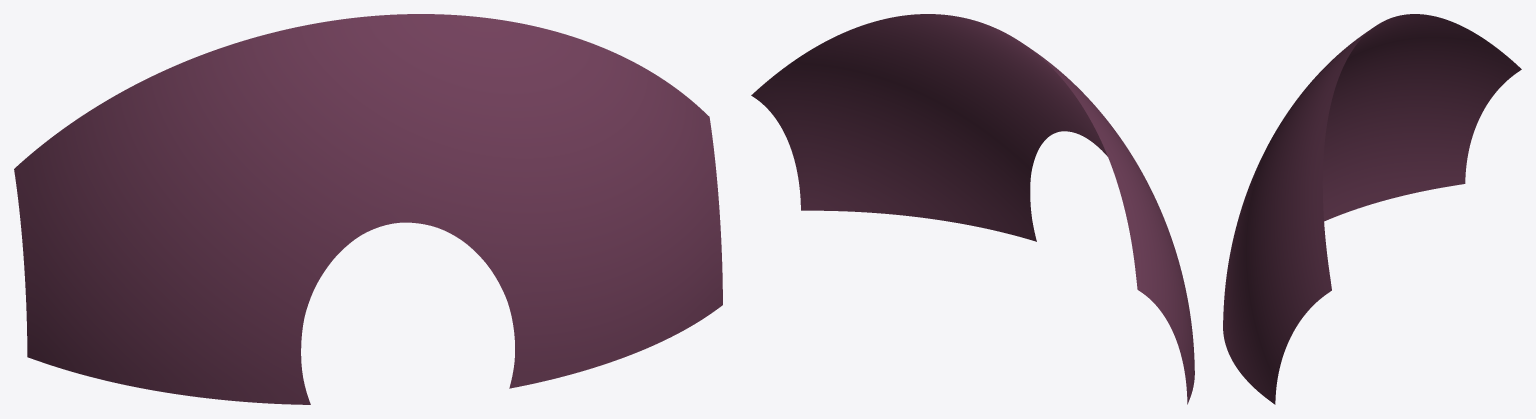
Rendered from Wall_round2.fbx.
3 views of the same model, side by side, from view 1: azimuth 30°, elevation 25°; view 2: azimuth 150°, elevation 25°; view 3: azimuth 270°, elevation 25° (orthographic). The views are drawn at different scales.
Visible parts, largest first — view 1: Wall_Circle1; view 2: Wall_Circle1; view 3: Wall_Circle1.
Boxes of the visible parts, x1,y1,x2,y2 form: Wall_Circle1: (14, 14, 722, 404); Wall_Circle1: (751, 14, 1194, 404); Wall_Circle1: (1223, 14, 1521, 404).
Bounding box in the file's own units: 510 × 262 × 281.
